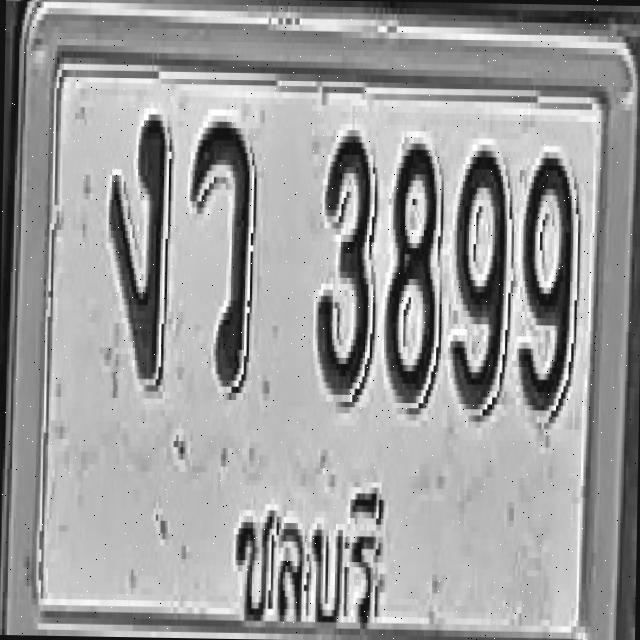16NgorNgu: (106, 107, 170, 385)
3: (314, 126, 376, 404)
46WorWaen: (186, 112, 255, 390)
8: (384, 133, 441, 405)
9: (450, 141, 510, 413), (516, 148, 575, 414)
